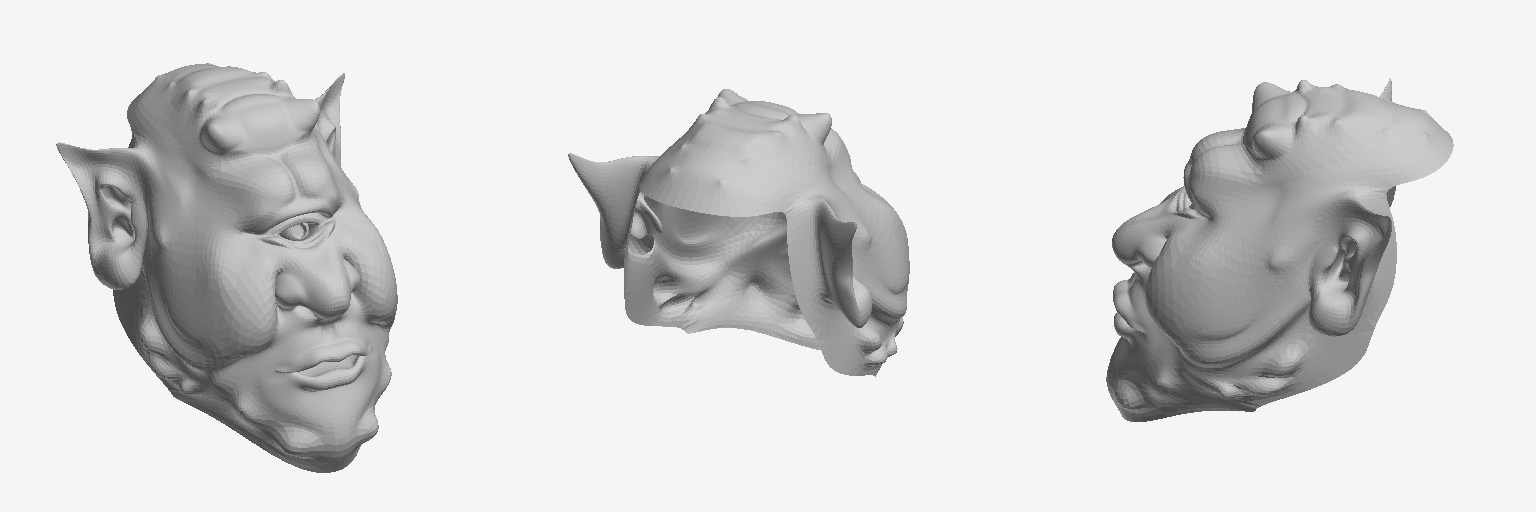
Rendered from bs_ears.obj.
The picture shows the model from 3 angles: view 1: azimuth 30°, elevation 25°; view 2: azimuth 150°, elevation 25°; view 3: azimuth 270°, elevation 25°; orthographic projection.
Visible parts, largest first — view 1: ogre_00; view 2: ogre_00; view 3: ogre_00.
Boxes of the visible parts, x1,y1,x2,y2 form: ogre_00: [56, 63, 397, 472]; ogre_00: [568, 89, 909, 376]; ogre_00: [1106, 78, 1453, 421].
Size of the model in its own units: 1.14 by 1.19 by 1.18.